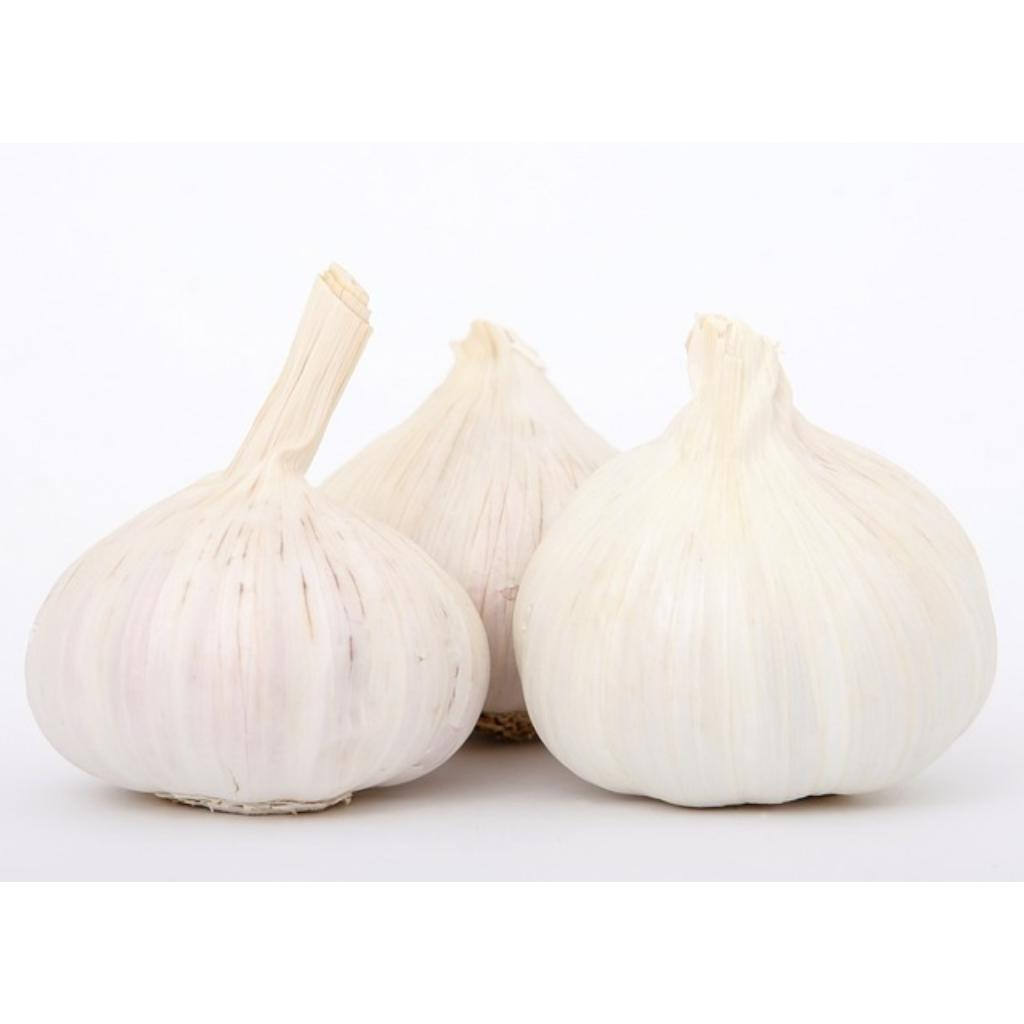garlic: (26, 264, 490, 812), (514, 314, 996, 805), (322, 320, 616, 739)
